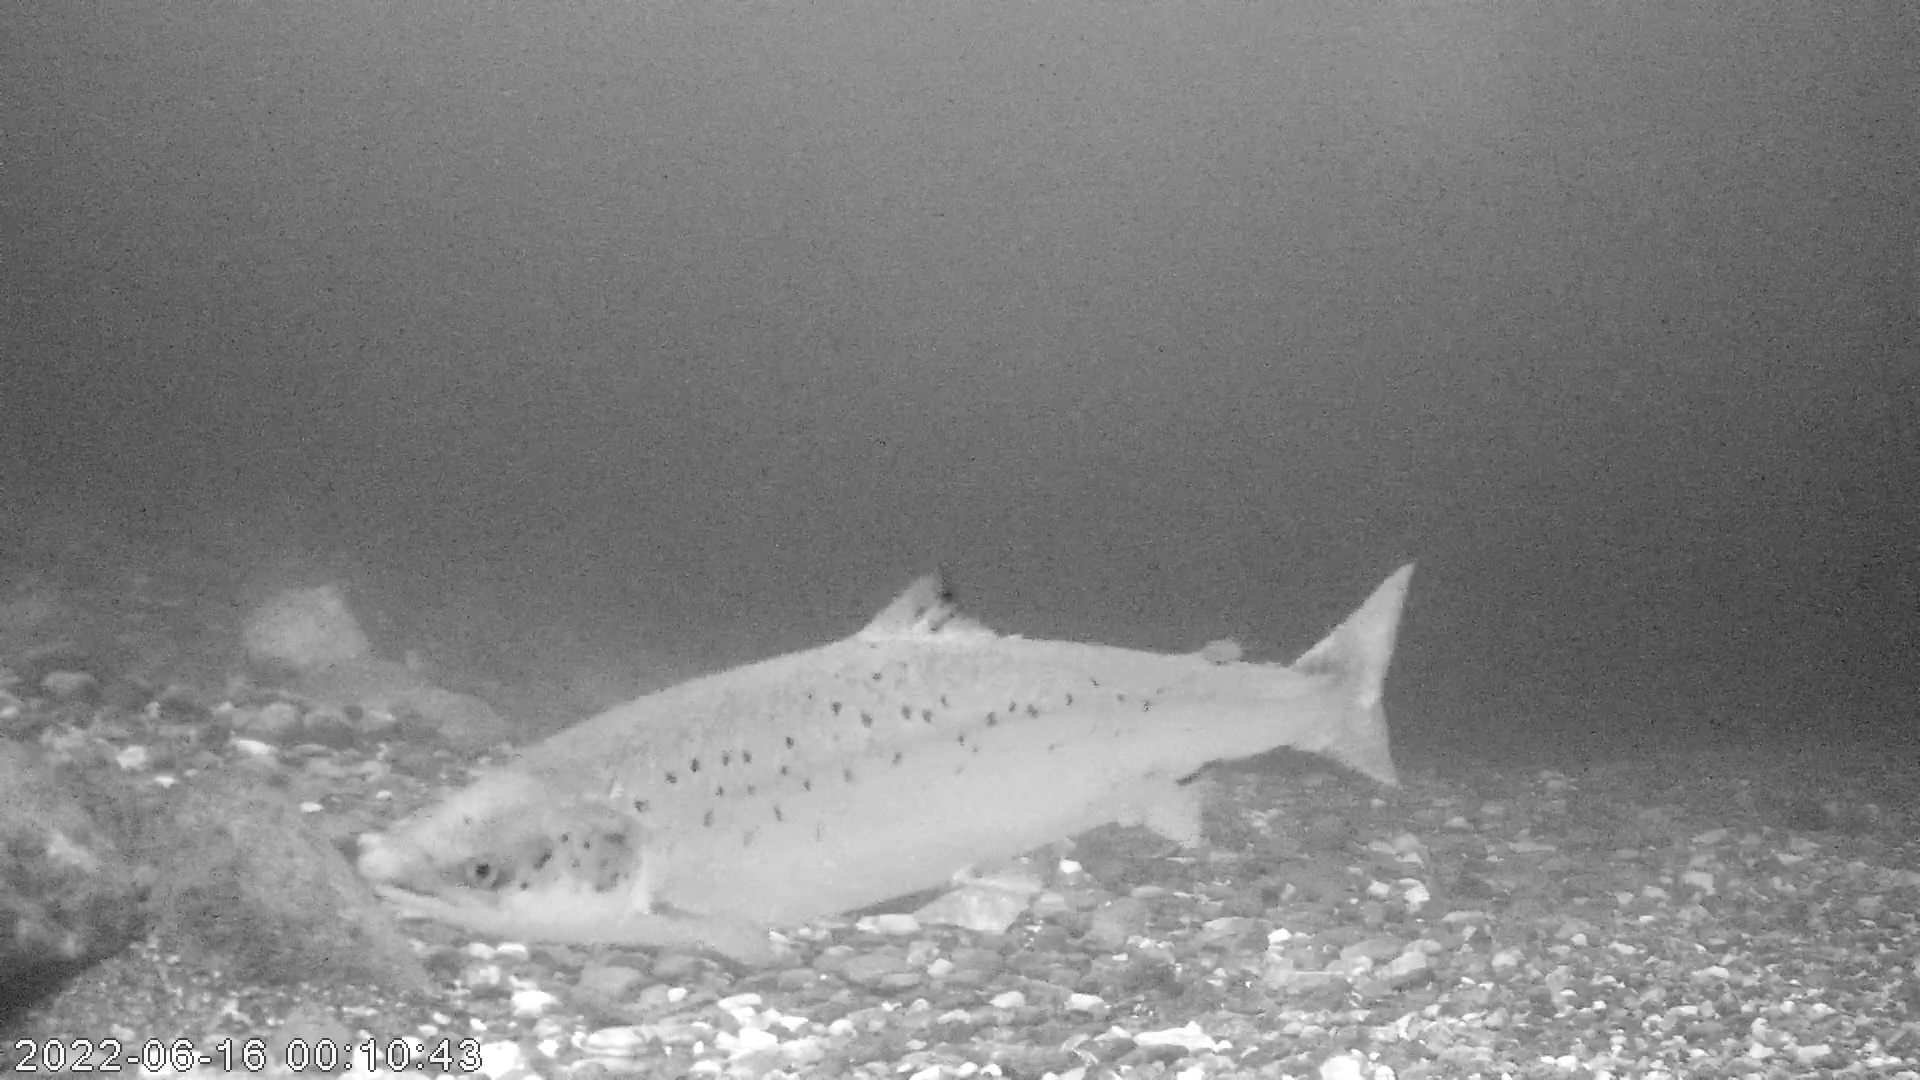salmon: (356, 556, 1418, 971)
